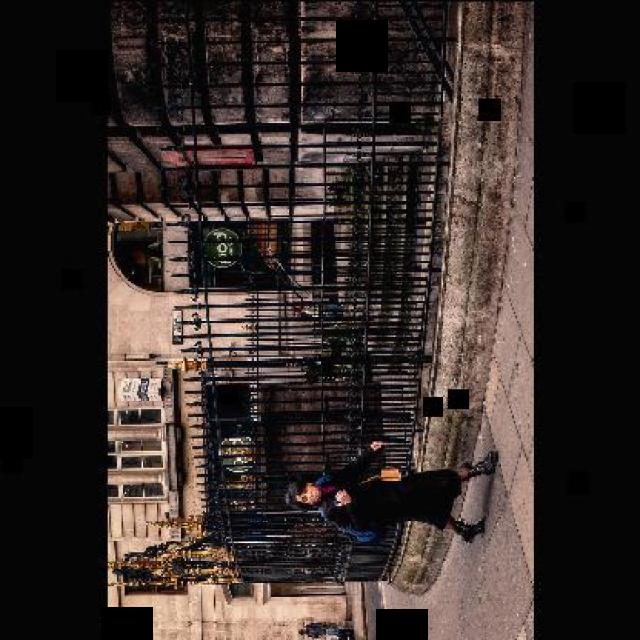unauthorized: (283, 439, 499, 546)
